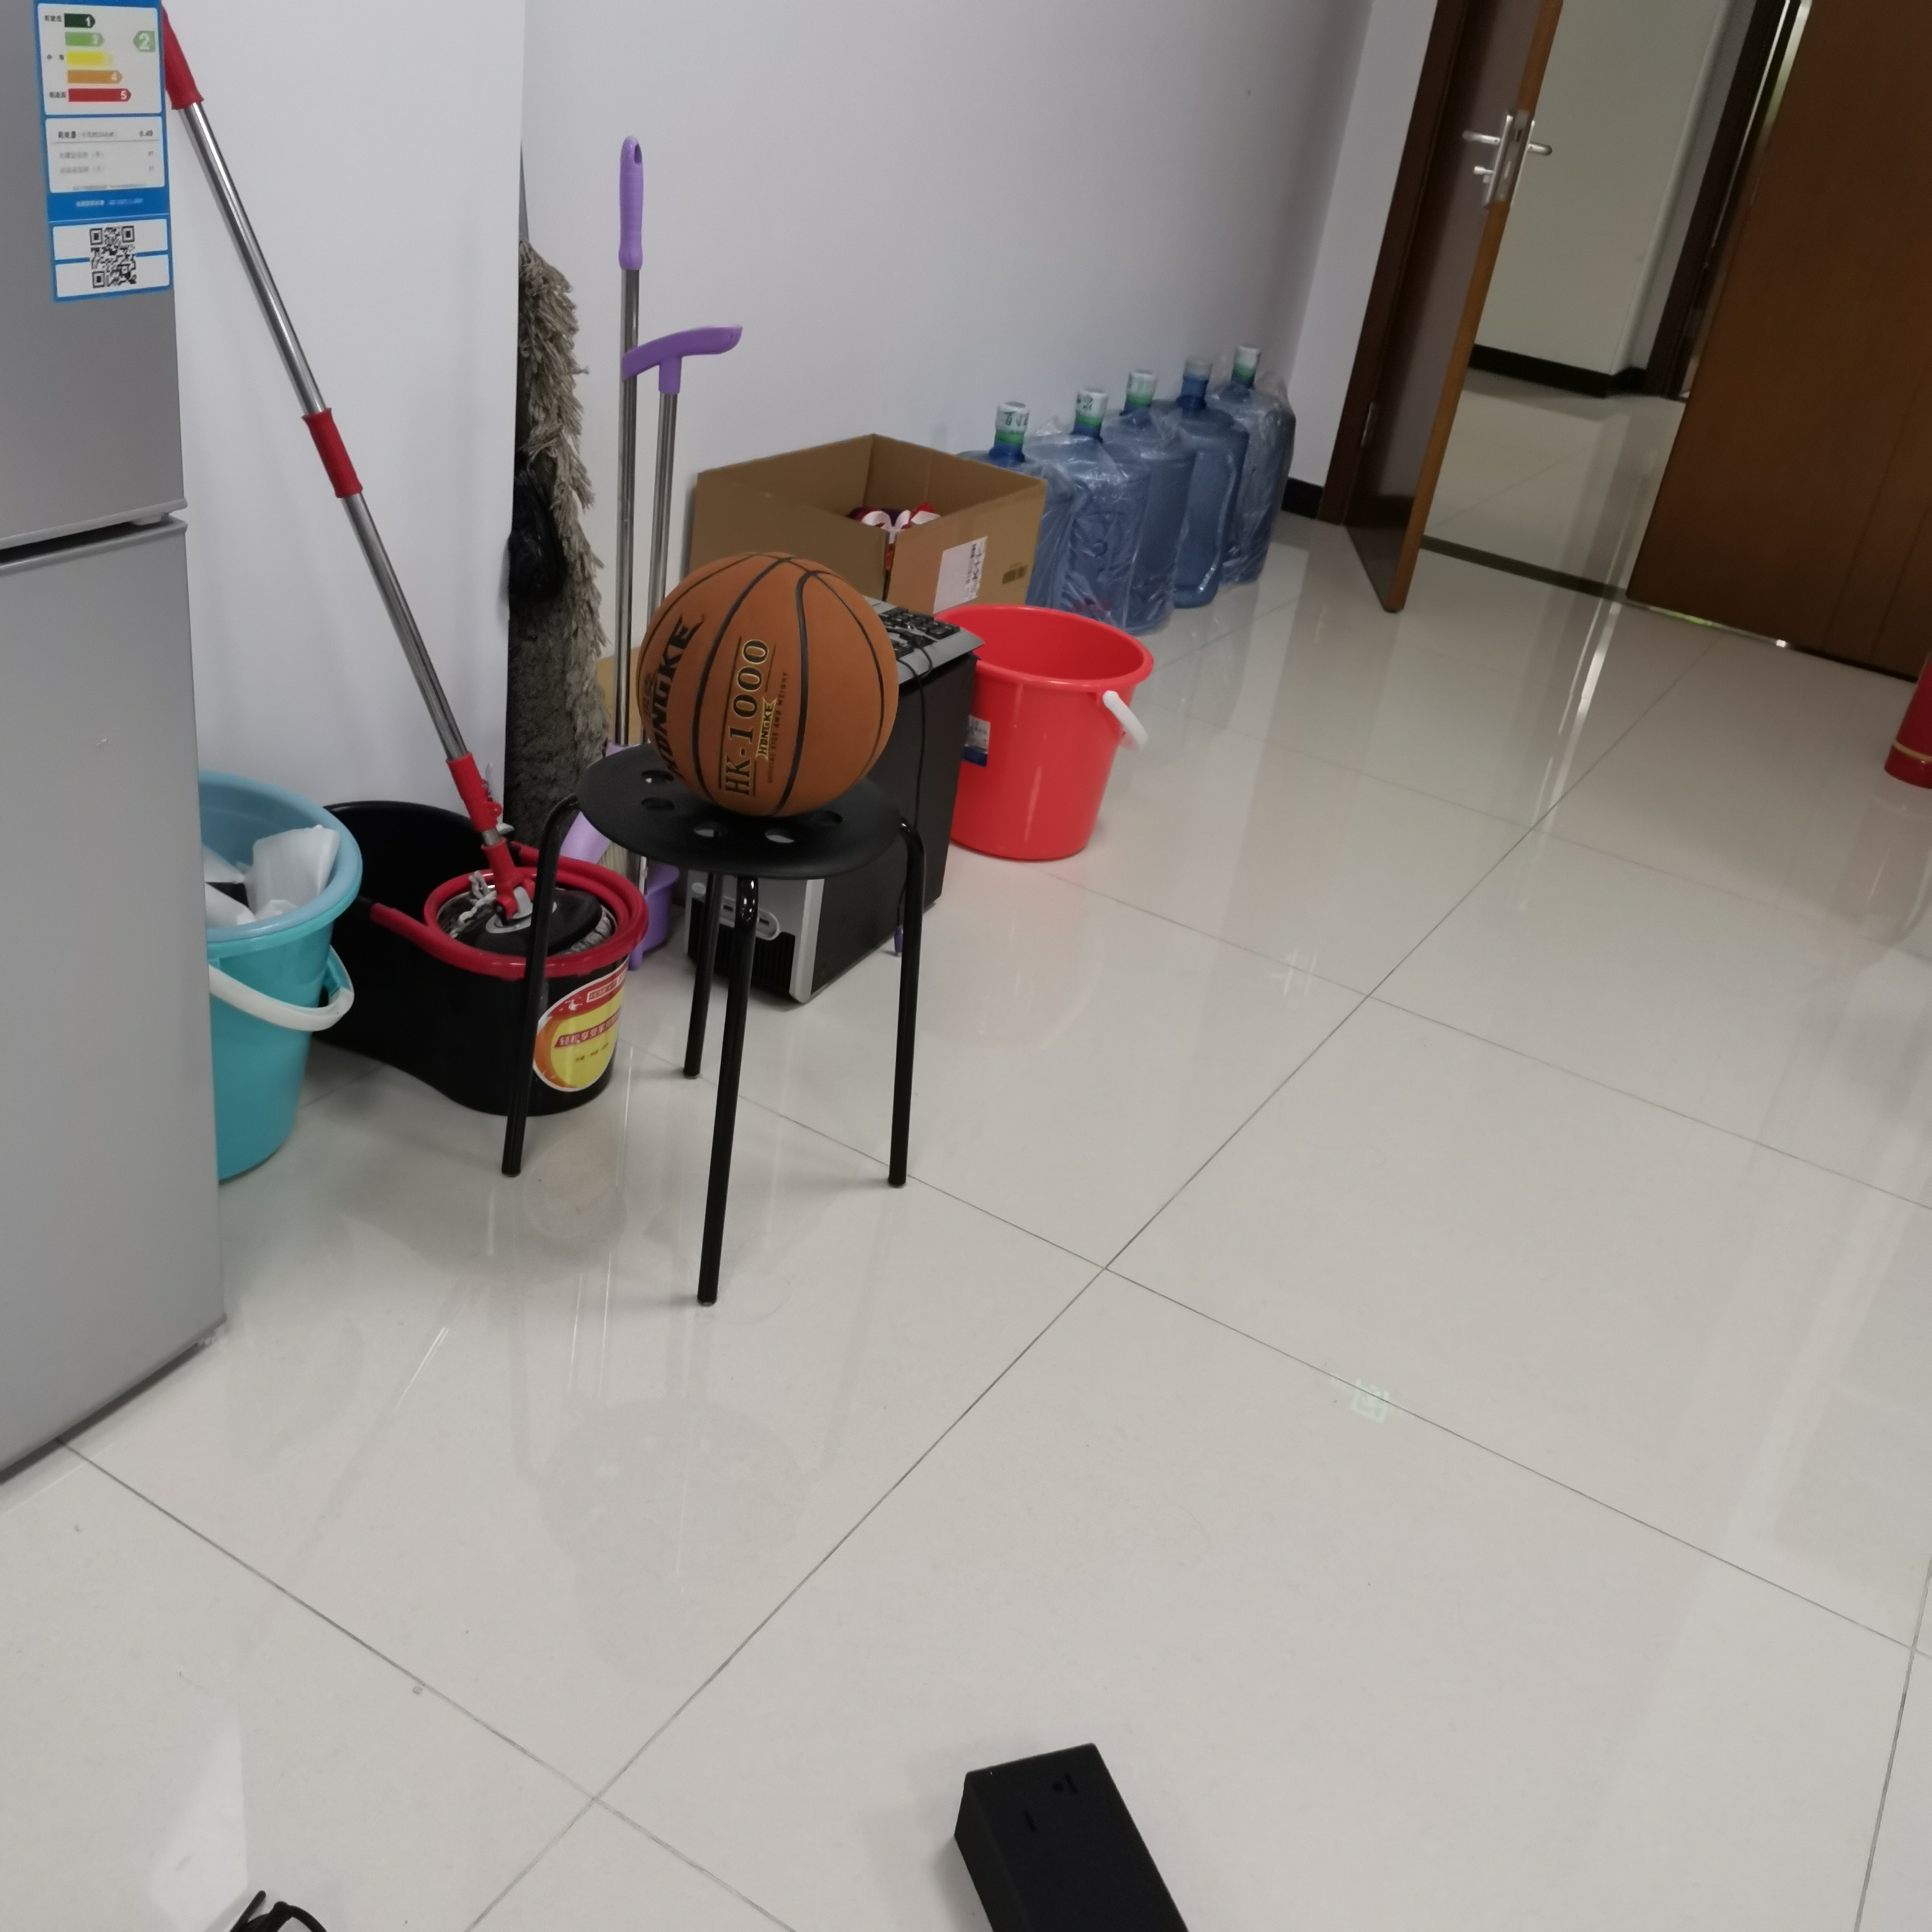basketball: (637, 550, 899, 817)
